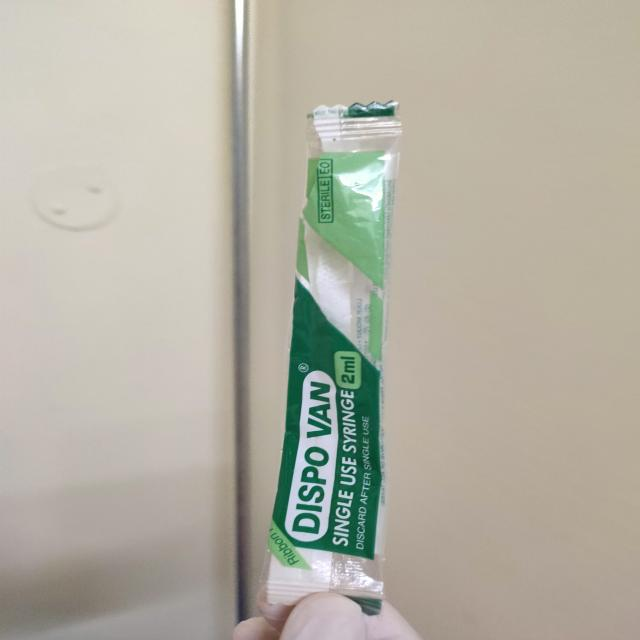B3: (263, 99, 402, 613)
